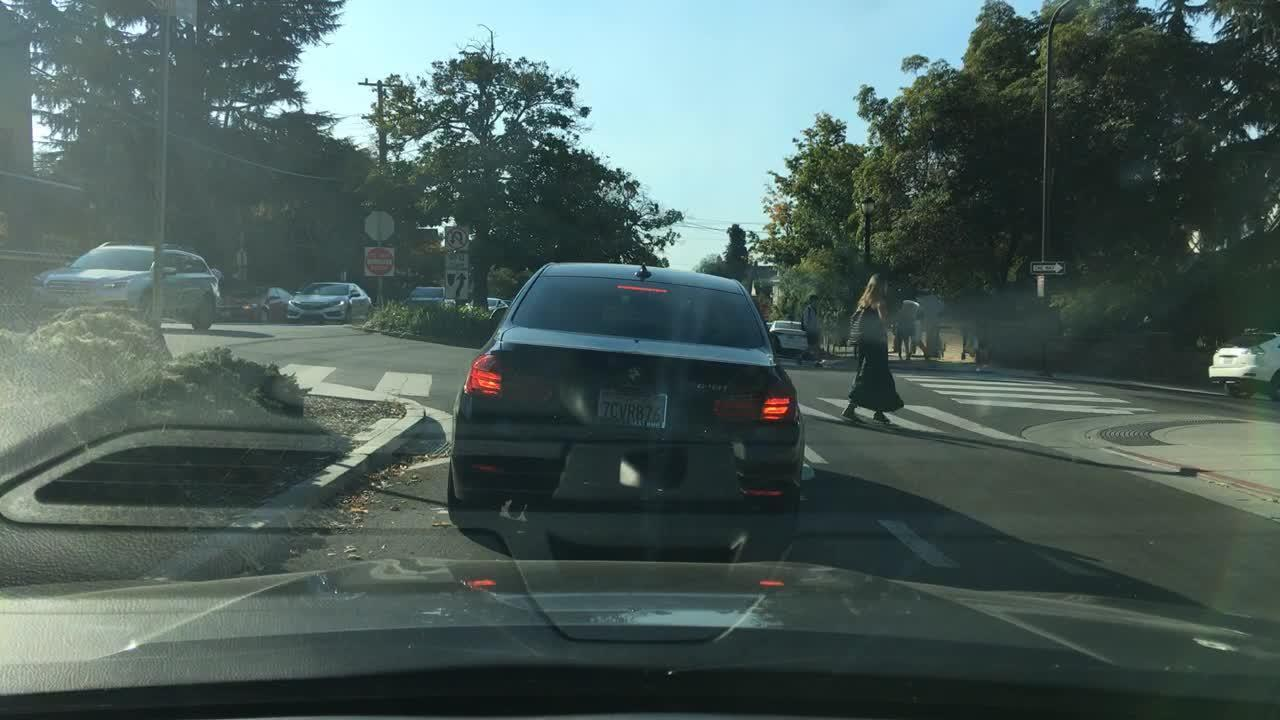bmw: (624, 364, 644, 384)
